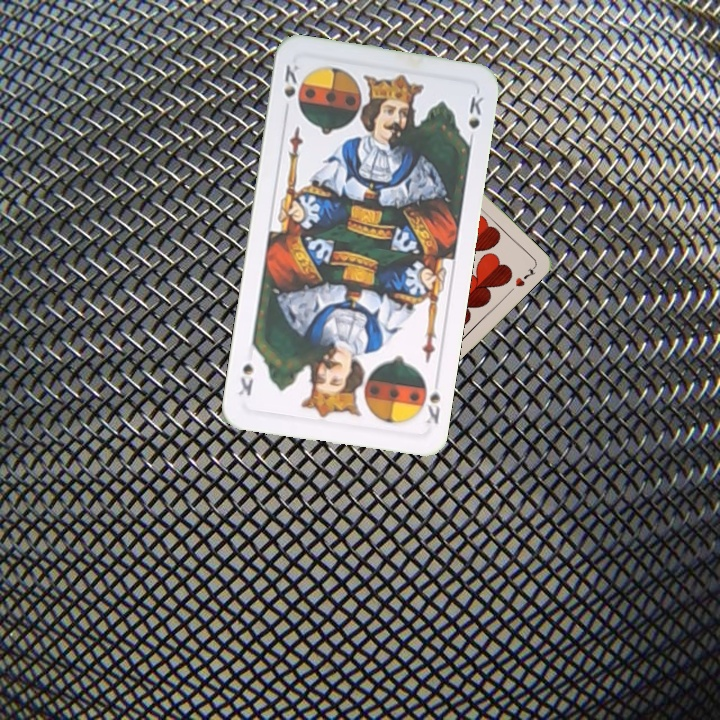SK: (279, 60, 305, 110), (421, 386, 443, 427)
